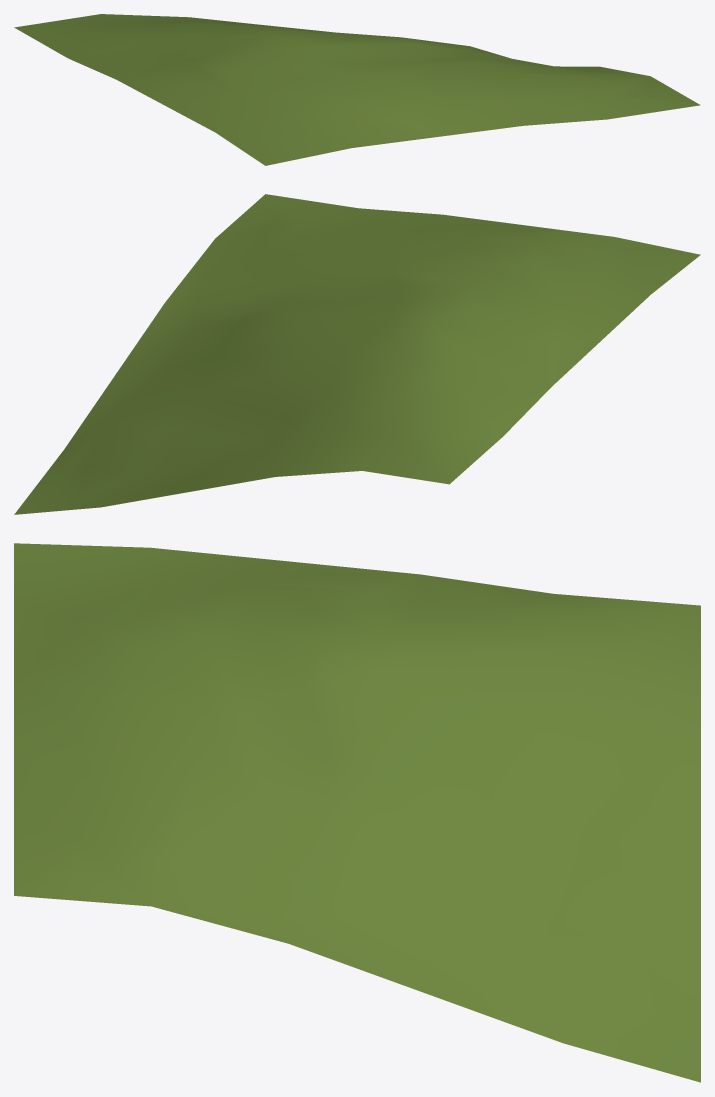
The model's file is rpgpp_ag_terrain_hill_01b_10x10m_3-3m.fbx.
The picture shows the model from 3 angles, top to bottom: view 1: azimuth 30°, elevation 25°; view 2: azimuth 150°, elevation 25°; view 3: azimuth 270°, elevation 25°; orthographic projection. The views are drawn at different scales.
Parts seen in each view (by area): view 1: rpgpp_ag_terrain_hill_01b_10x10m_3-3m; view 2: rpgpp_ag_terrain_hill_01b_10x10m_3-3m; view 3: rpgpp_ag_terrain_hill_01b_10x10m_3-3m.
Part boxes in pixels (bbox=[...]): rpgpp_ag_terrain_hill_01b_10x10m_3-3m: bbox=[14, 14, 700, 165]; rpgpp_ag_terrain_hill_01b_10x10m_3-3m: bbox=[14, 194, 700, 514]; rpgpp_ag_terrain_hill_01b_10x10m_3-3m: bbox=[14, 543, 700, 1082].
Bounding box in the file's own units: 10 × 4.11 × 10.
